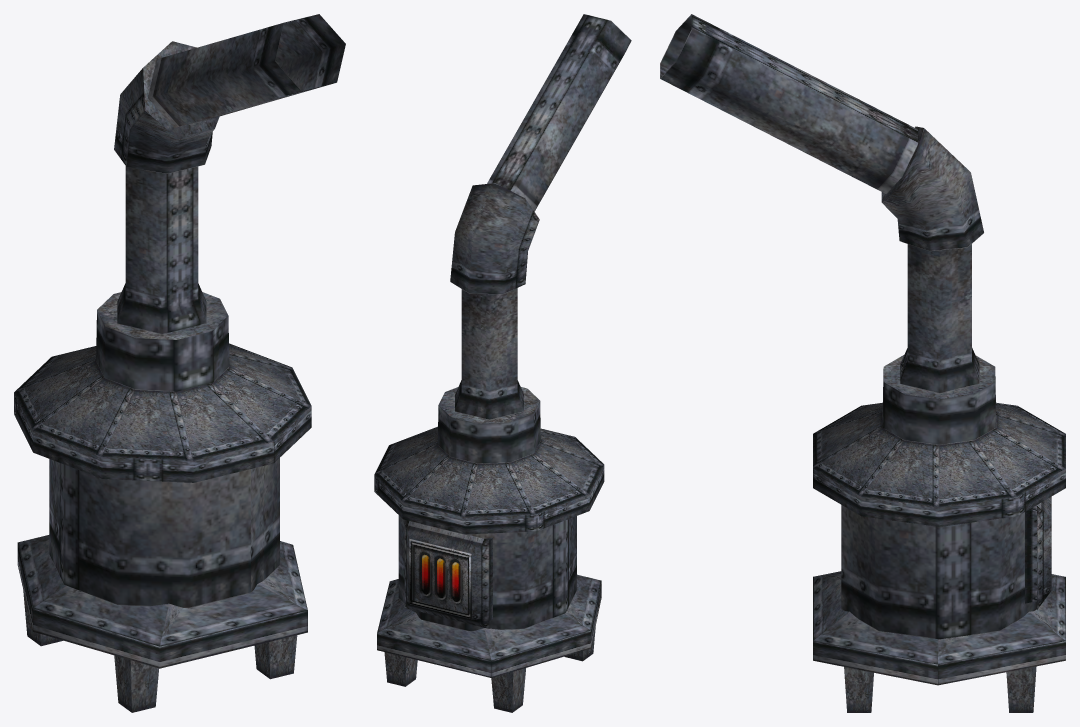
File: INST_LT_STOVE.fbx
3 views of the same model, side by side, from view 1: azimuth 30°, elevation 25°; view 2: azimuth 150°, elevation 25°; view 3: azimuth 270°, elevation 25° (orthographic). The views are drawn at different scales.
Parts seen in each view (by area): view 1: INST_LT_STOVE; view 2: INST_LT_STOVE; view 3: INST_LT_STOVE.
Boxes of the visible parts, bbox=[...] form: INST_LT_STOVE: bbox=[14, 14, 345, 712]; INST_LT_STOVE: bbox=[374, 14, 631, 712]; INST_LT_STOVE: bbox=[660, 14, 1065, 712].
Size of the model in its own units: 7698 by 20886 by 11698.
Materials: 2 (2 with a texture image).
